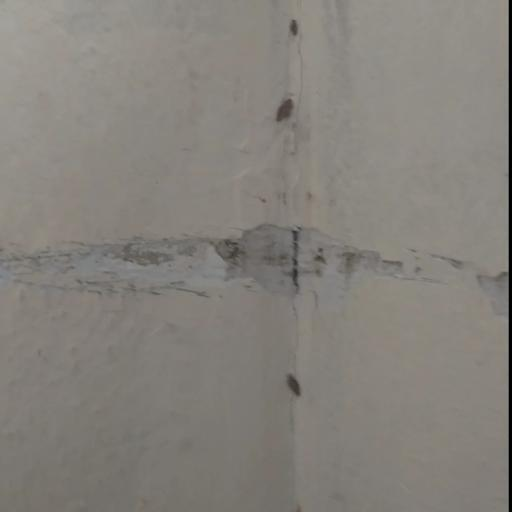peeling: (0, 197, 512, 328), (248, 0, 312, 182), (279, 354, 318, 427)
